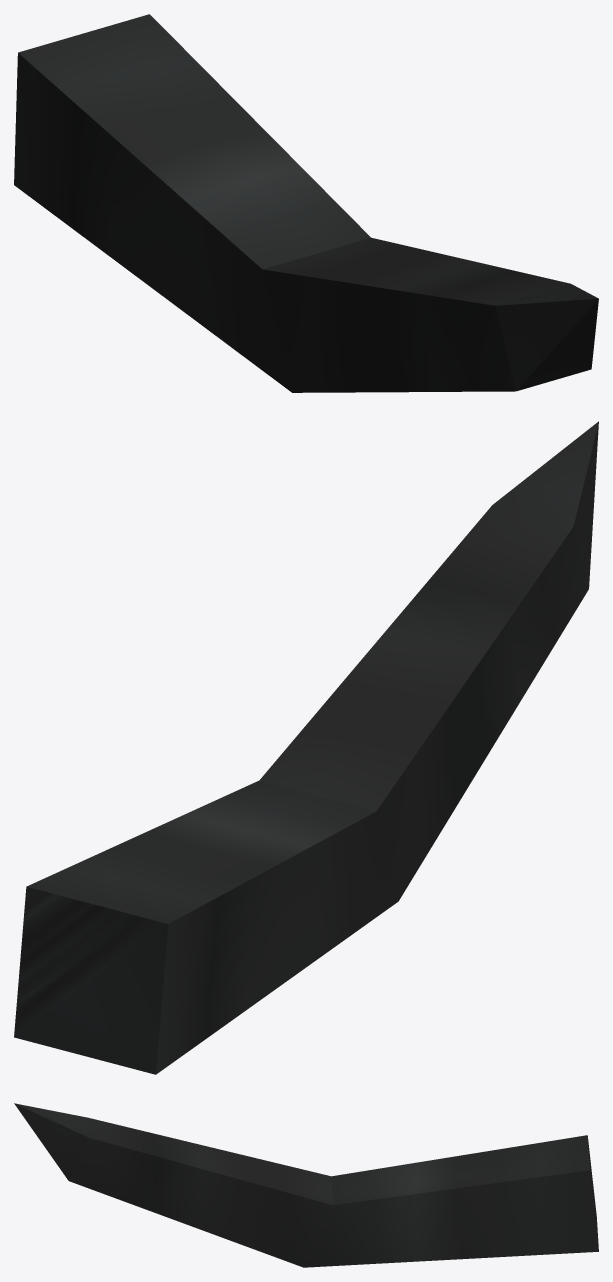
Rendered from quillbeastquill.obj.
3 renders of one model, top to bottom at view 1: azimuth 30°, elevation 25°; view 2: azimuth 150°, elevation 25°; view 3: azimuth 270°, elevation 25°, orthographic. The views are drawn at different scales.
Visible parts, largest first — view 1: quillbeastquill; view 2: quillbeastquill; view 3: quillbeastquill.
Boxes of the visible parts, x1,y1,x2,y2 form: quillbeastquill: [14, 14, 598, 392]; quillbeastquill: [14, 421, 598, 1074]; quillbeastquill: [14, 1103, 598, 1267].
Bounding box in the file's own units: 0.2232 × 0.4068 × 1.42.
